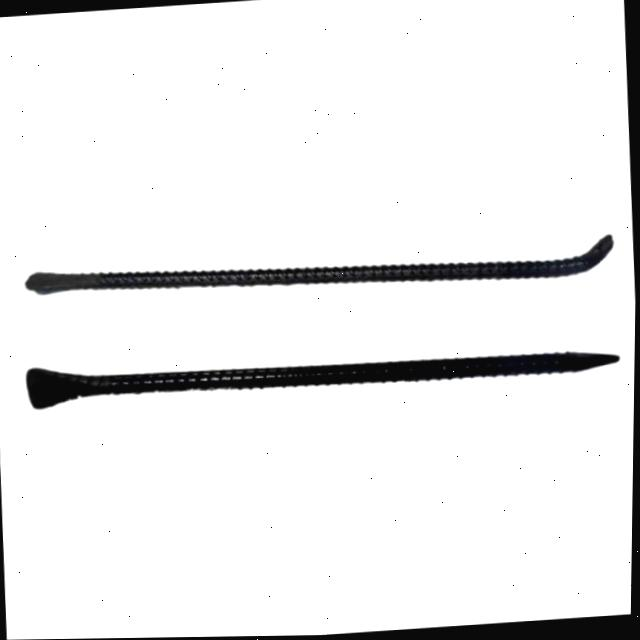crow bar: (23, 346, 625, 419), (16, 226, 618, 296)
